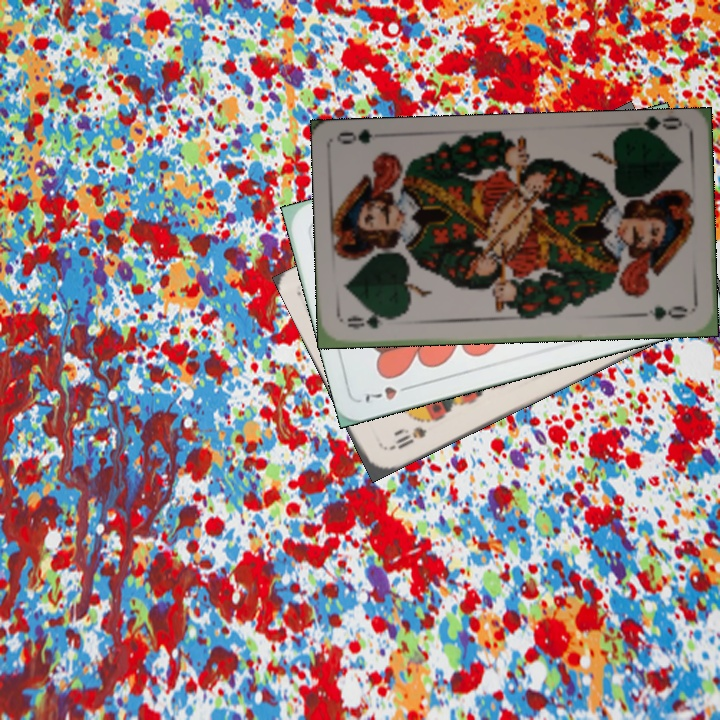GO: (626, 116, 685, 143), (343, 311, 401, 332)
H7: (359, 381, 417, 405)
S10: (382, 422, 430, 453)
